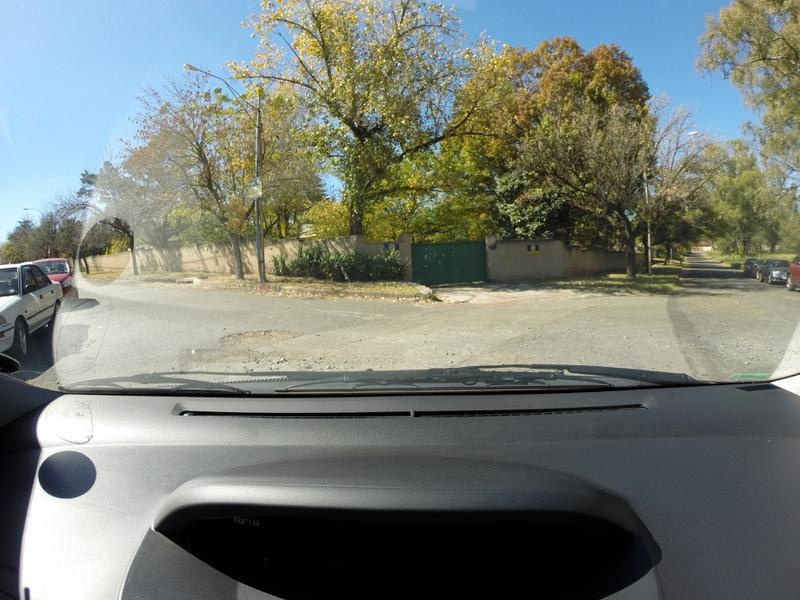pothole: (212, 327, 309, 349), (184, 345, 279, 367)
